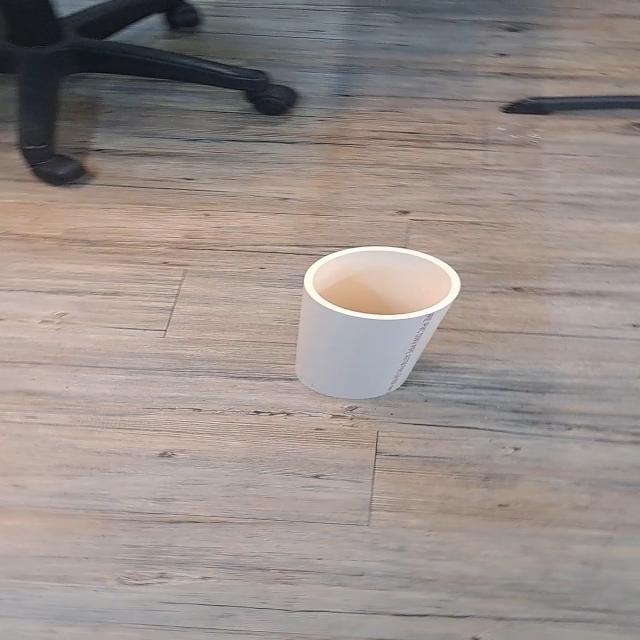CORAL: (282, 240, 468, 404)
